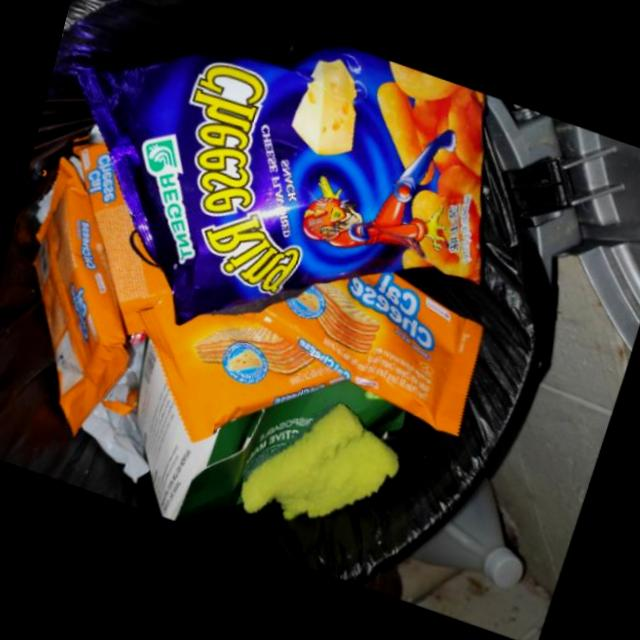bao_bi_thuc_pham: (71, 49, 487, 333), (244, 277, 487, 440), (141, 300, 349, 450), (35, 167, 133, 446), (74, 152, 173, 344)
carton: (141, 347, 409, 528)
